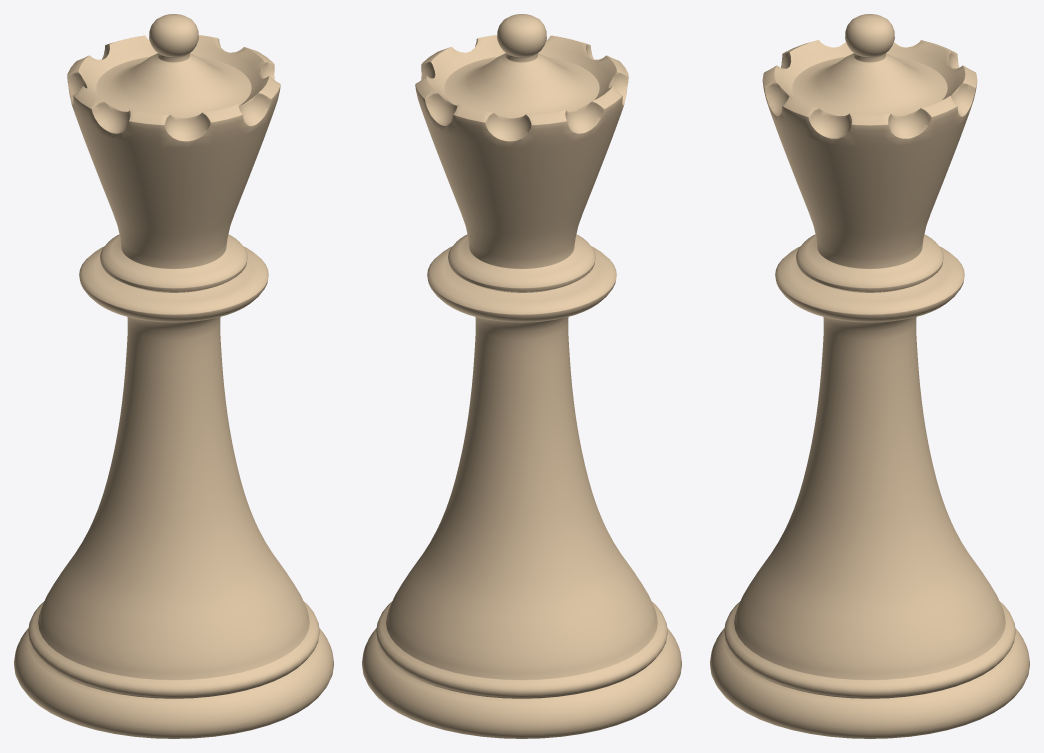
File: white-queen.glb
The picture shows the model from 3 angles, left to right: view 1: azimuth 30°, elevation 25°; view 2: azimuth 150°, elevation 25°; view 3: azimuth 270°, elevation 25°; orthographic projection.
Visible parts, largest first — view 1: white-queen.001; view 2: white-queen.001; view 3: white-queen.001.
Part boxes in pixels (x1=…): white-queen.001: x1=14, y1=14, x2=333, y2=738; white-queen.001: x1=362, y1=14, x2=681, y2=738; white-queen.001: x1=710, y1=14, x2=1029, y2=738.
Size of the model in its own units: 0.72 by 1.63 by 0.72.
